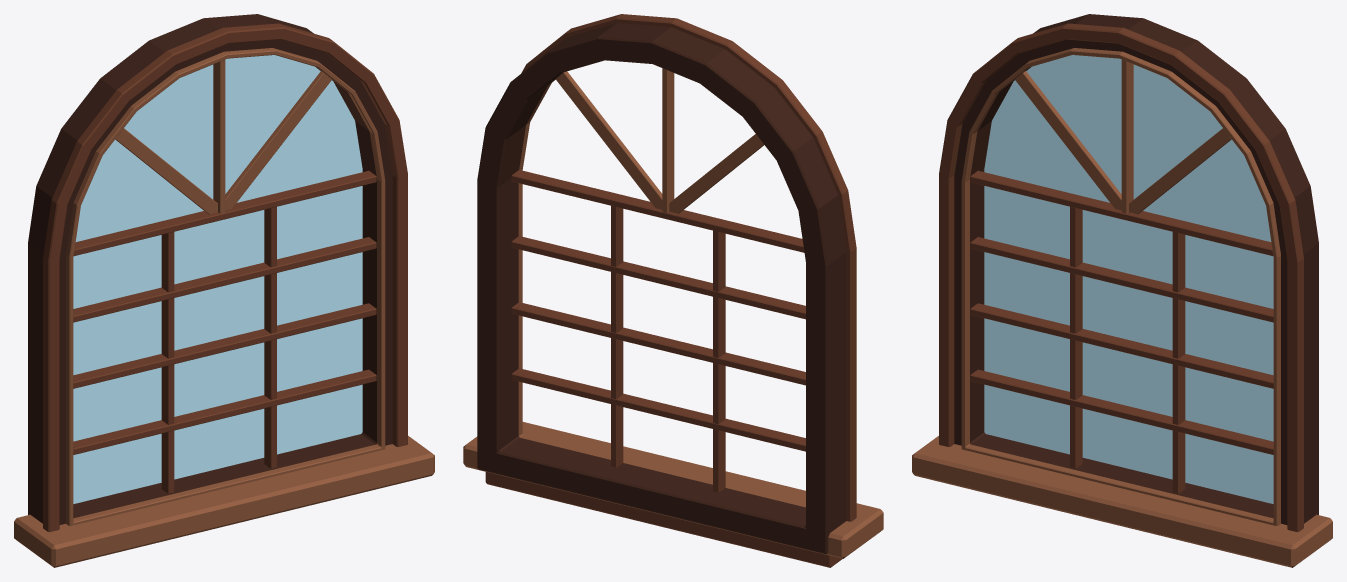
Rendered from hinged_window_arch.glb.
The picture shows the model from 3 angles, left to right: view 1: azimuth 30°, elevation 25°; view 2: azimuth 150°, elevation 25°; view 3: azimuth 330°, elevation 25°; orthographic projection.
Visible parts, largest first — view 1: Glass, Deep_frame, Raised_moulding, Sill, Inner_bead, Transom_2, Transom_1, Transom_3, Transom_4, Mullion_1, Mullion_2, Fan_ray_1 (+2 smaller); view 2: Deep_frame, Raised_moulding, Sill, Sill_apron, Transom_2, Transom_3, Transom_1, Transom_4, Mullion_1, Mullion_2, Inner_bead, Fan_ray_1 (+2 smaller); view 3: Glass, Deep_frame, Raised_moulding, Sill, Inner_bead, Transom_2, Transom_1, Transom_3, Transom_4, Mullion_2, Mullion_1, Fan_ray_3 (+2 smaller).
Part boxes in pixels (left/top/right/bottom): Glass: left=73, top=55, right=362, bottom=503; Deep_frame: left=28, top=14, right=392, bottom=524; Raised_moulding: left=43, top=23, right=407, bottom=532; Sill: left=14, top=436, right=434, bottom=567; Inner_bead: left=66, top=48, right=385, bottom=525; Transom_2: left=73, top=303, right=376, bottom=388; Transom_1: left=73, top=369, right=376, bottom=454; Transom_3: left=73, top=237, right=376, bottom=322; Transom_4: left=73, top=170, right=376, bottom=255; Mullion_1: left=161, top=232, right=174, bottom=493; Mullion_2: left=264, top=206, right=276, bottom=468; Fan_ray_1: left=217, top=71, right=331, bottom=211; Deep_frame: left=477, top=23, right=846, bottom=554; Raised_moulding: left=521, top=14, right=856, bottom=521; Sill: left=463, top=422, right=883, bottom=558; Sill_apron: left=485, top=472, right=842, bottom=567; Transom_2: left=511, top=302, right=805, bottom=385; Transom_3: left=511, top=236, right=805, bottom=319; Transom_1: left=511, top=368, right=805, bottom=451; Transom_4: left=511, top=170, right=804, bottom=252; Mullion_1: left=713, top=230, right=725, bottom=492; Mullion_2: left=611, top=205, right=623, bottom=467; Inner_bead: left=518, top=79, right=805, bottom=507; Fan_ray_1: left=555, top=71, right=669, bottom=210; Glass: left=984, top=55, right=1273, bottom=503; Deep_frame: left=954, top=14, right=1318, bottom=524; Raised_moulding: left=939, top=23, right=1303, bottom=532; Sill: left=912, top=436, right=1332, bottom=567; Inner_bead: left=961, top=48, right=1280, bottom=525; Transom_2: left=970, top=303, right=1273, bottom=388; Transom_1: left=970, top=369, right=1273, bottom=454; Transom_3: left=970, top=237, right=1273, bottom=322; Transom_4: left=970, top=170, right=1273, bottom=255; Mullion_2: left=1172, top=232, right=1185, bottom=493; Mullion_1: left=1070, top=206, right=1082, bottom=468; Fan_ray_3: left=1015, top=71, right=1121, bottom=210.
Size of the model in its own units: 2.12 by 2.62 by 0.405.
